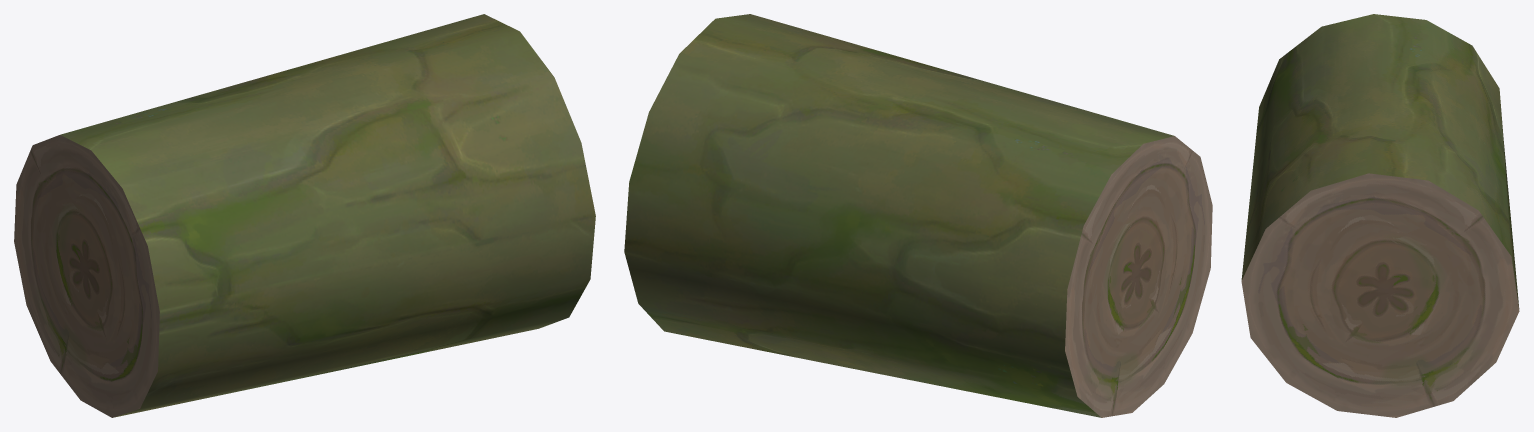
Rendered from m_env_collect_tree_cedar_fir_03.FBX.
3 renders of one model, left to right at view 1: azimuth 30°, elevation 25°; view 2: azimuth 150°, elevation 25°; view 3: azimuth 270°, elevation 25°, orthographic. The views are drawn at different scales.
Visible parts, largest first — view 1: m_env_collect_tree_cedar_fir_03; view 2: m_env_collect_tree_cedar_fir_03; view 3: m_env_collect_tree_cedar_fir_03.
Part boxes in pixels (x1=…): m_env_collect_tree_cedar_fir_03: x1=14, y1=14, x2=595, y2=417; m_env_collect_tree_cedar_fir_03: x1=624, y1=14, x2=1212, y2=417; m_env_collect_tree_cedar_fir_03: x1=1241, y1=14, x2=1519, y2=417.
Size of what is drawn, in the model's own units: 58.25 by 38.18 by 39.32.
